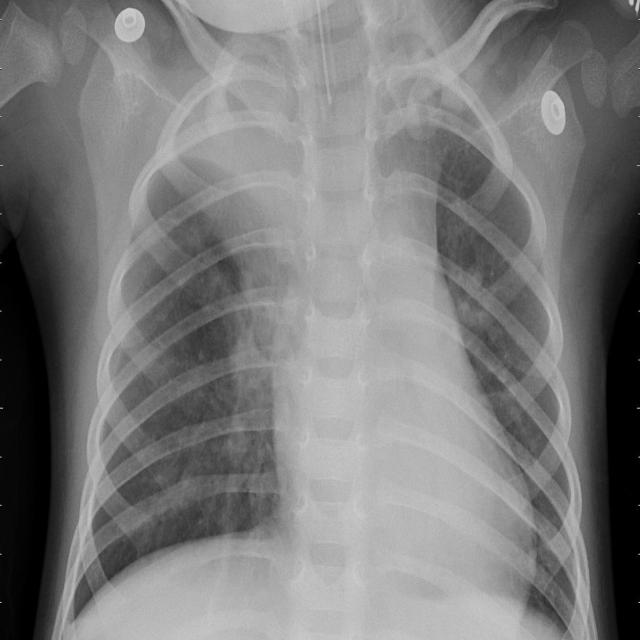high-pneumonia: (163, 48, 310, 274)
low-pneumonia: (218, 277, 279, 509), (446, 266, 511, 397)
